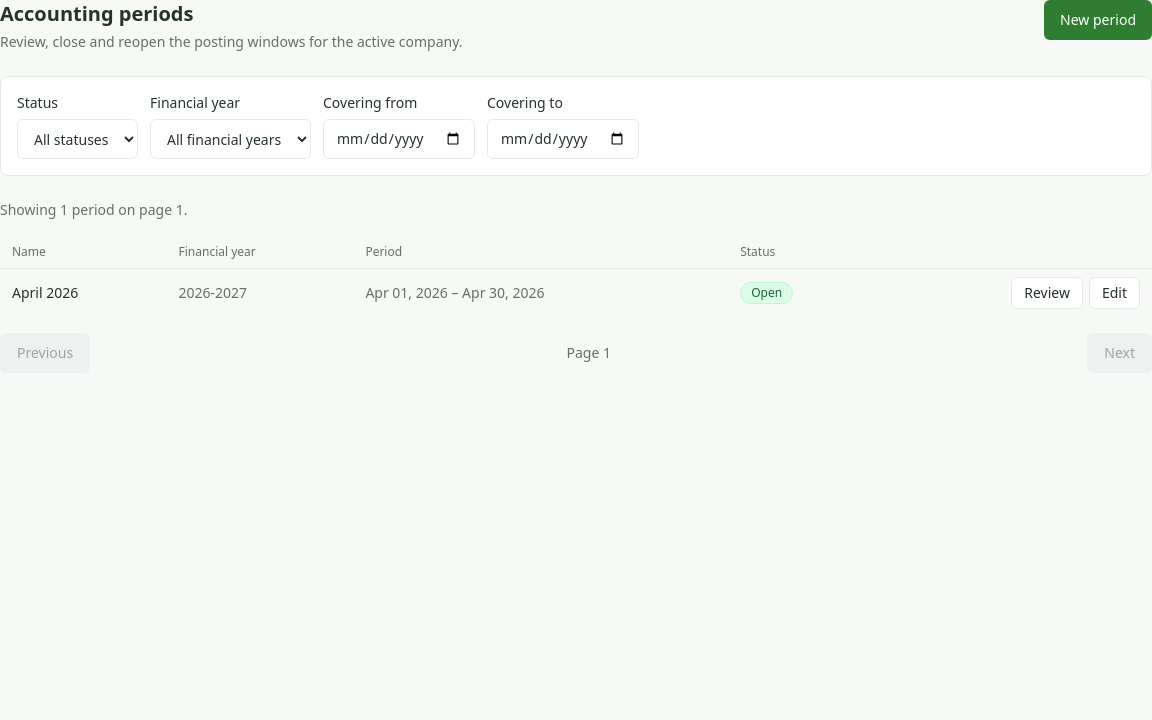
Test: PeriodsView › does not offer to close when the review is not eligible
Click the button "Review" at coordinates (1047, 293), box top-left (1011, 277), bottom-right (1083, 309)
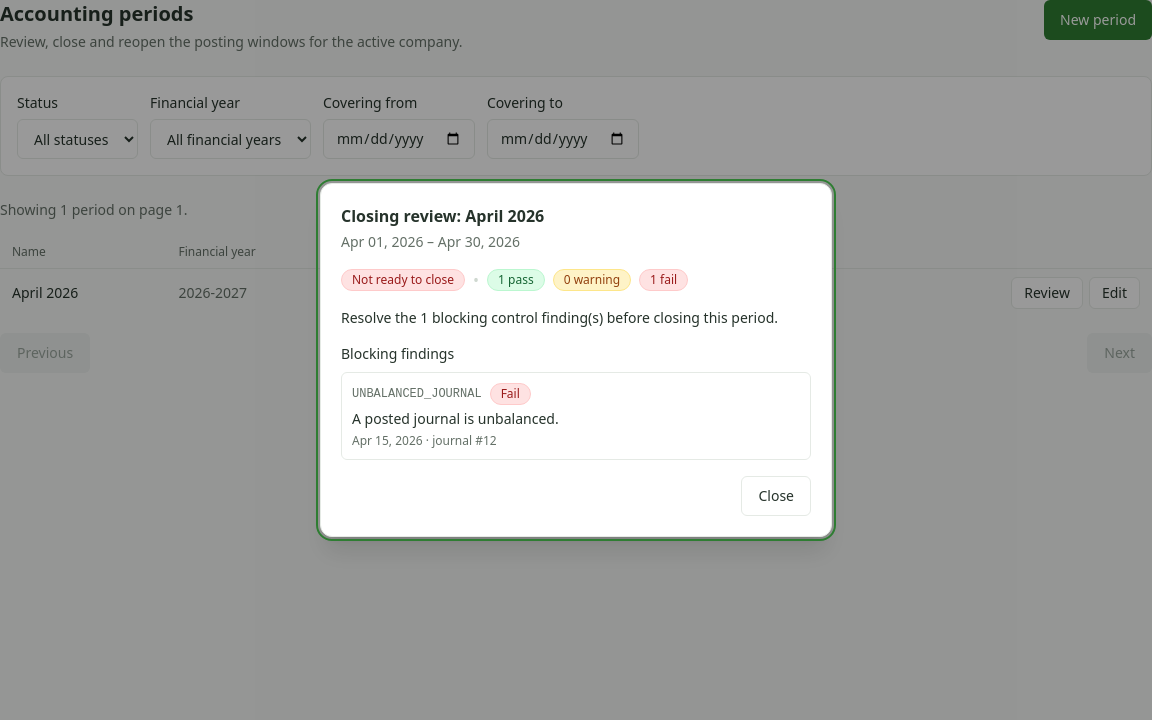
expect the text "Not ready to close" is shown: met, box top-left (341, 269), bottom-right (465, 291)
